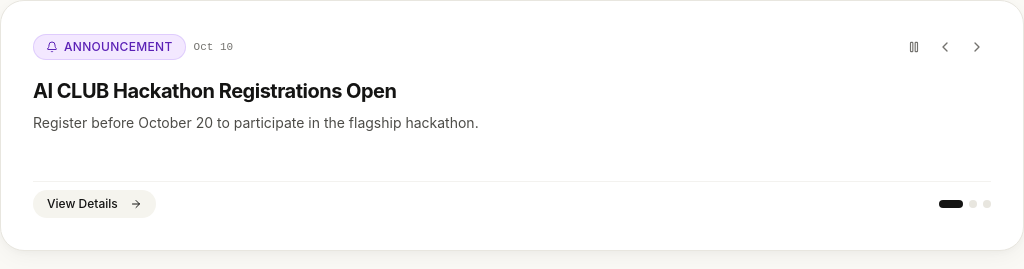
Test case: Member Dashboard Flashcard System Tests (FLASH-018 to FLASH-035) › FLASH-020: Next button navigates to next card immediately
The image size is (1024, 269).
Expected: the heading "AI CLUB Hackathon Registrations Open" is shown, x1=33 y1=79 x2=396 y2=103
What coordinates should you click on to do the following:
click the button named "next highlight"
I would click on:
 (977, 47)
Its box is x1=963 y1=33 x2=991 y2=61.
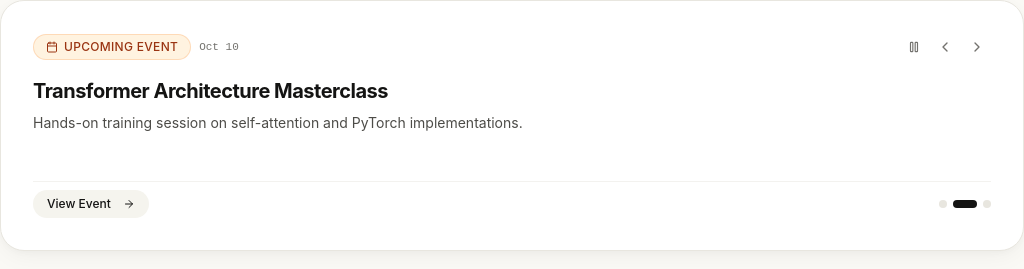
Expected: the heading "Transformer Architecture Masterclass" is shown, x1=33 y1=79 x2=388 y2=103
